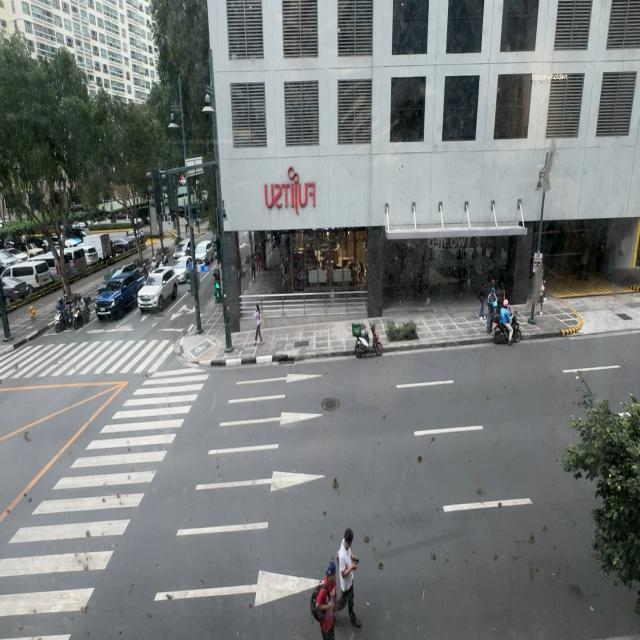jaywalking: (334, 530, 362, 626), (314, 561, 338, 640)
